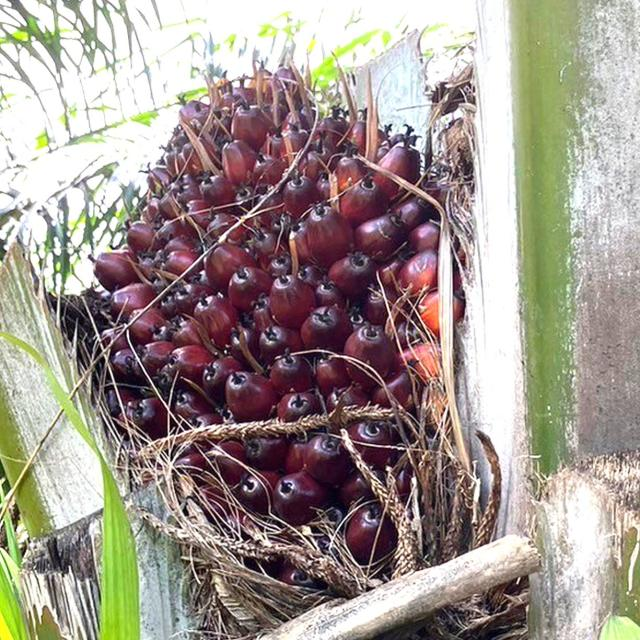ripe: (88, 70, 443, 557)
